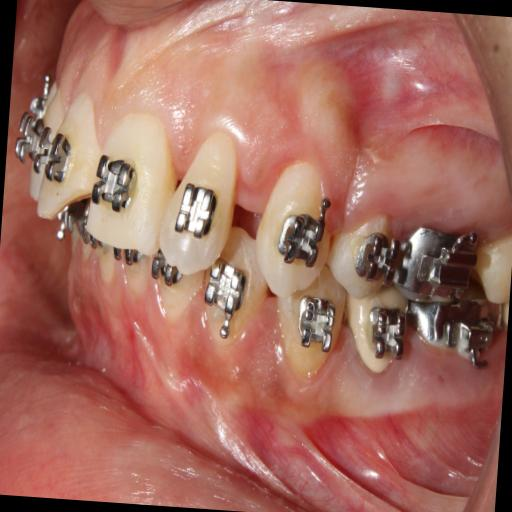correct_brace: (332, 204, 402, 302), (90, 142, 144, 216), (278, 202, 328, 268), (175, 173, 218, 242)
incorrect_brace: (158, 122, 240, 280), (354, 229, 400, 284)
